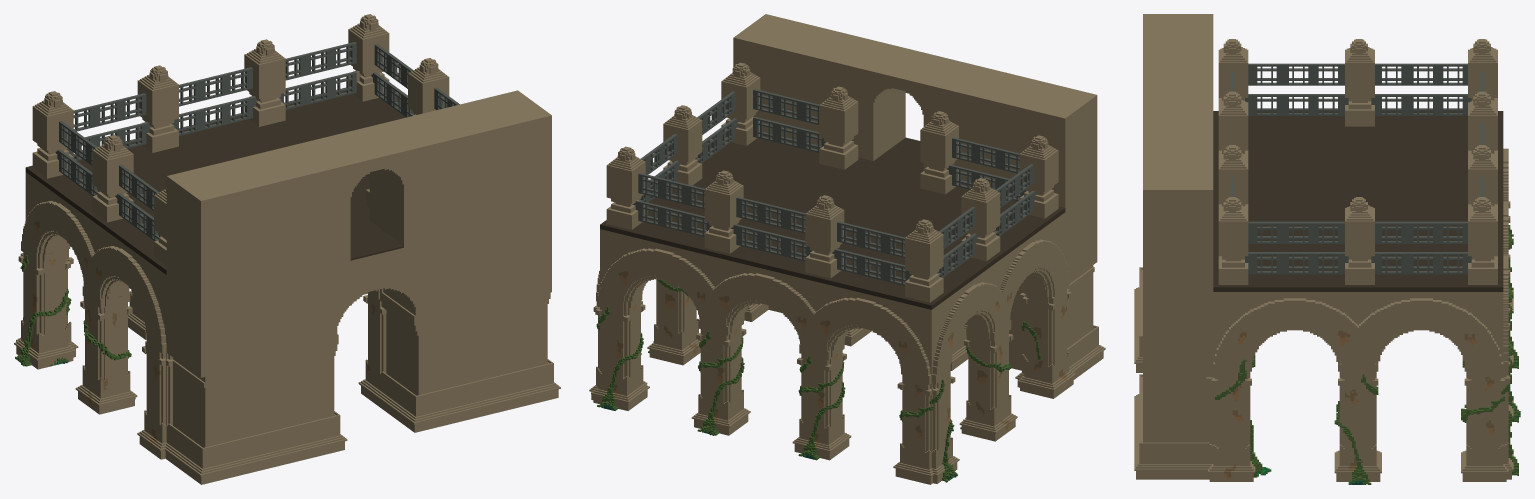
The model's file is central.FBX.
3 renders of one model, left to right at view 1: azimuth 30°, elevation 25°; view 2: azimuth 150°, elevation 25°; view 3: azimuth 270°, elevation 25°, orthographic. The views are drawn at different scales.
Parts seen in each view (by area): view 1: default; view 2: default; view 3: default.
Boxes of the visible parts, x1,y1,x2,y2 form: default: [14, 14, 560, 484]; default: [589, 14, 1105, 484]; default: [1134, 14, 1520, 484].
Size of the model in its own units: 25.6 by 18.1 by 22.
Materials: 1 (1 with a texture image).
